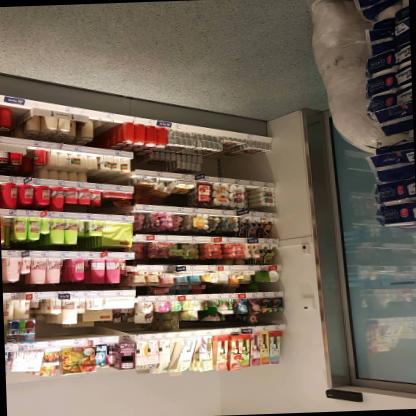empty_space: (245, 185, 255, 211), (99, 124, 109, 146), (12, 109, 20, 132)
